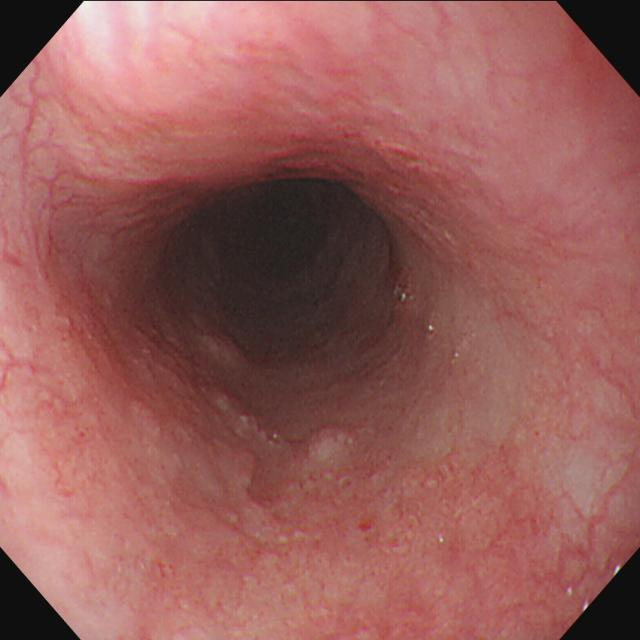A: (146, 379, 536, 593)
E: (194, 178, 376, 311)
